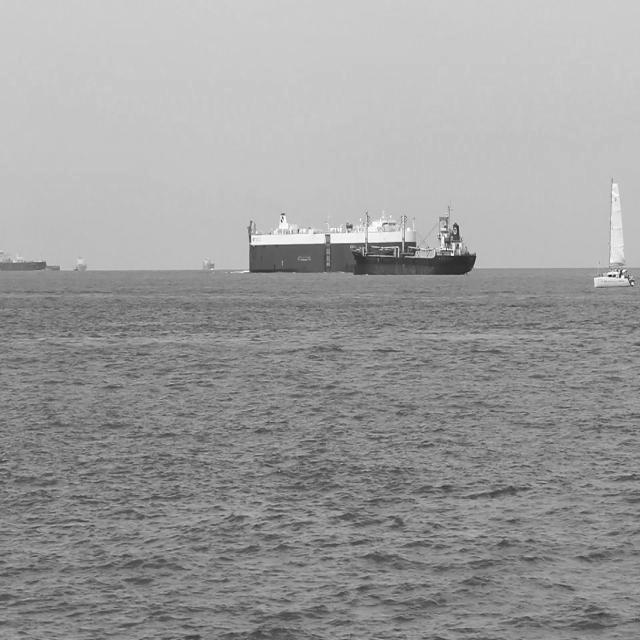ship: (244, 207, 419, 278), (346, 198, 480, 278), (592, 168, 636, 288), (0, 246, 50, 274), (70, 250, 88, 274), (200, 252, 216, 273)
